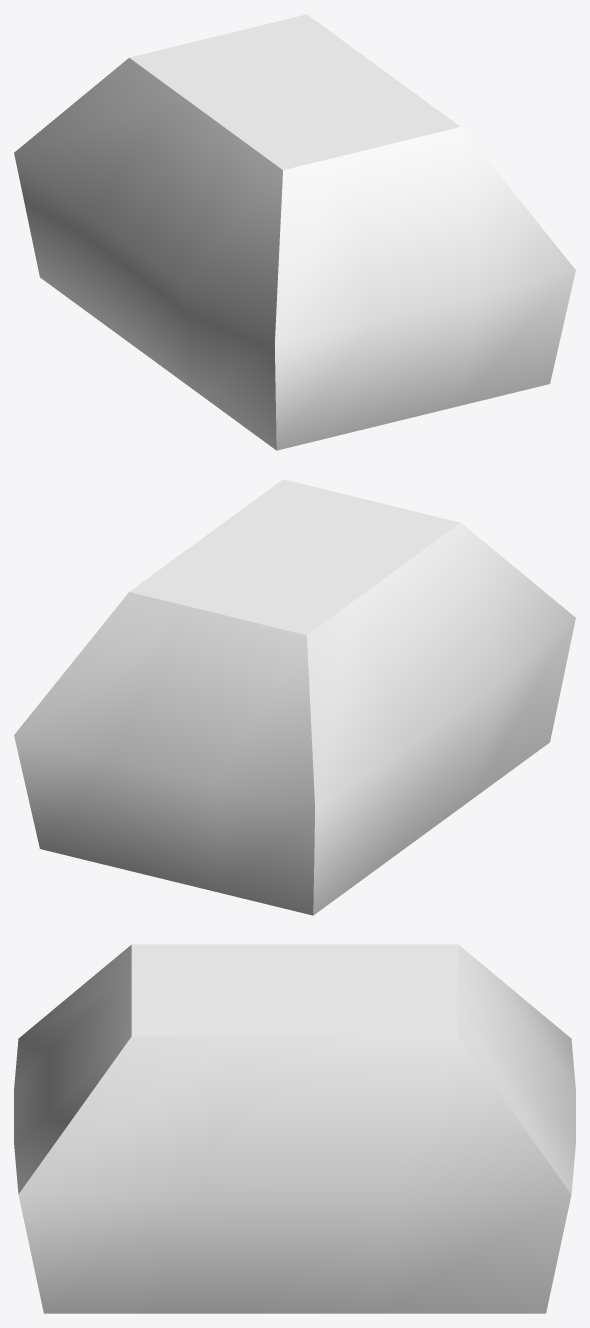
Rendered from flour-sack-unit-authored-atlas.glb.
3 renders of one model, top to bottom at view 1: azimuth 30°, elevation 25°; view 2: azimuth 150°, elevation 25°; view 3: azimuth 270°, elevation 25°, orthographic. The views are drawn at different scales.
Visible parts, largest first — view 1: Authored surface.005; view 2: Authored surface.005; view 3: Authored surface.005.
Boxes of the visible parts, x1,y1,x2,y2 form: Authored surface.005: [14, 14, 575, 450]; Authored surface.005: [14, 479, 575, 915]; Authored surface.005: [14, 944, 575, 1313].
Bounding box in the file's own units: 0.6984 × 0.5 × 1.01.
1 material, 1 textured.
